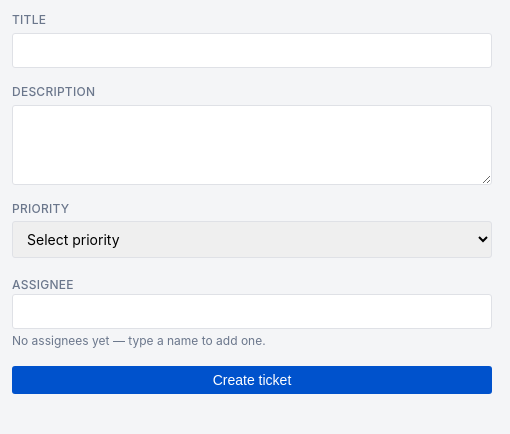
TicketForm › renders per-field backend errors from a 400 VALIDATION_FAILED with details[]
Type "A title" into the field labelled "Title" at (252, 50), box [12,33,492,68]
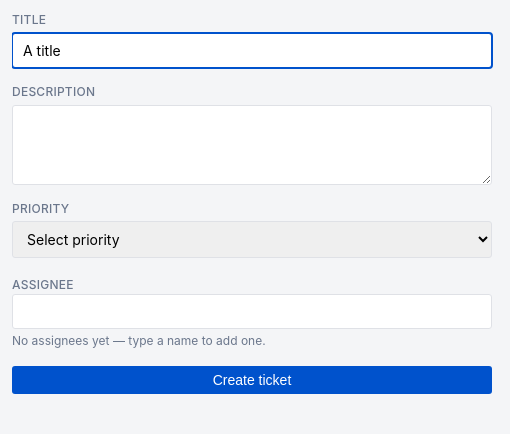
Type "A description" into the text box labelled "Description" at (252, 145), box [12,105,492,185]
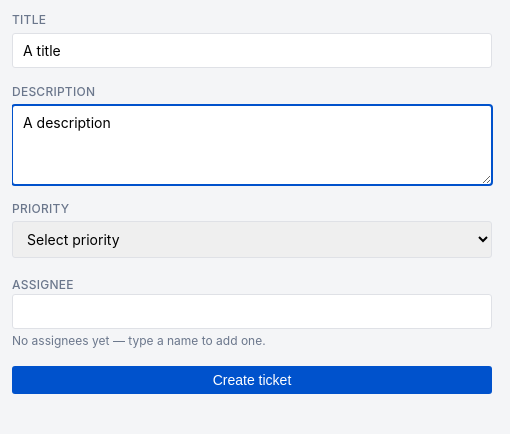
Select "HIGH" in the dropdown labelled "Priority" at (252, 240), box [12,221,492,258]
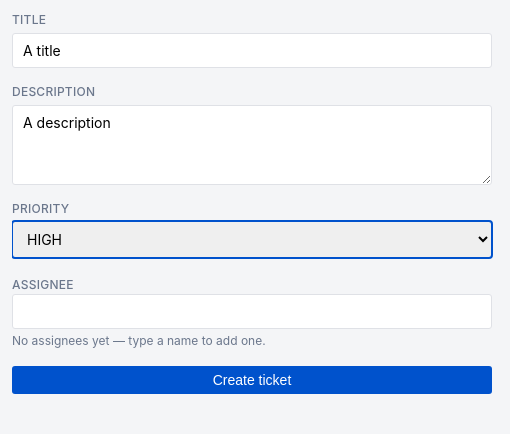
Type "jane.doe" into the dropdown labelled "Assignee" at (252, 312), box [12,294,492,329]
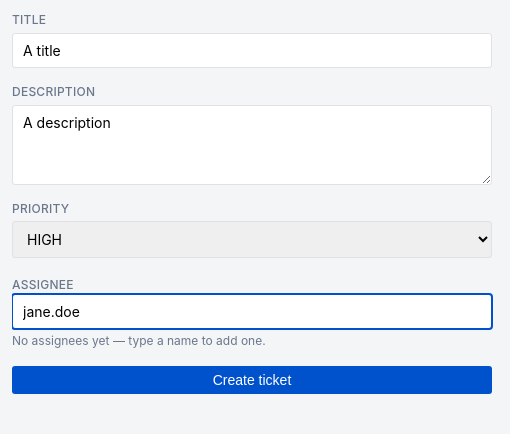
Click the button "Create ticket" at (252, 380), box [12,366,492,394]
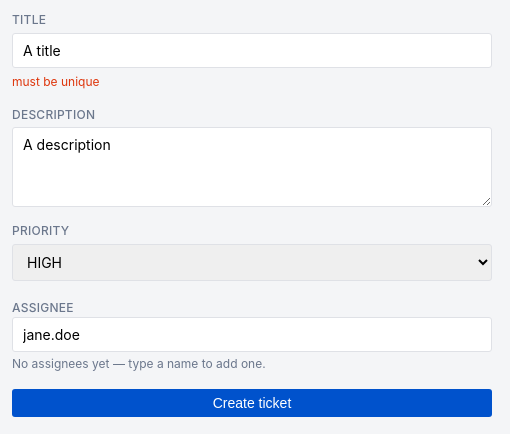
Check: the text "must be unique" is shown, box [12,74,100,89]
